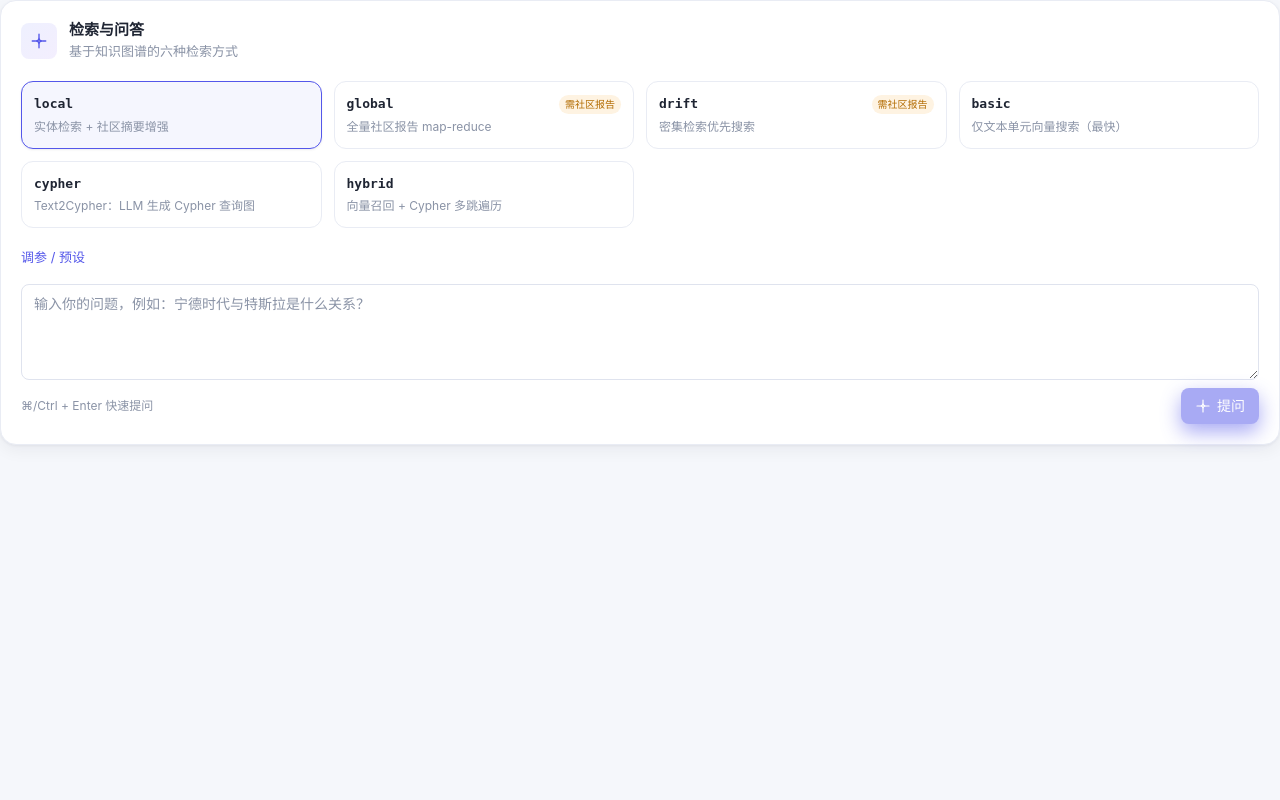
Test: tuning panel is collapsed by default and opens on click
The width and height of the screenshot is (1280, 800).
Expected: the field labelled "community_level" is not shown
Click the button "调参 / 预设" at (53, 258), box [21,248,85,268]
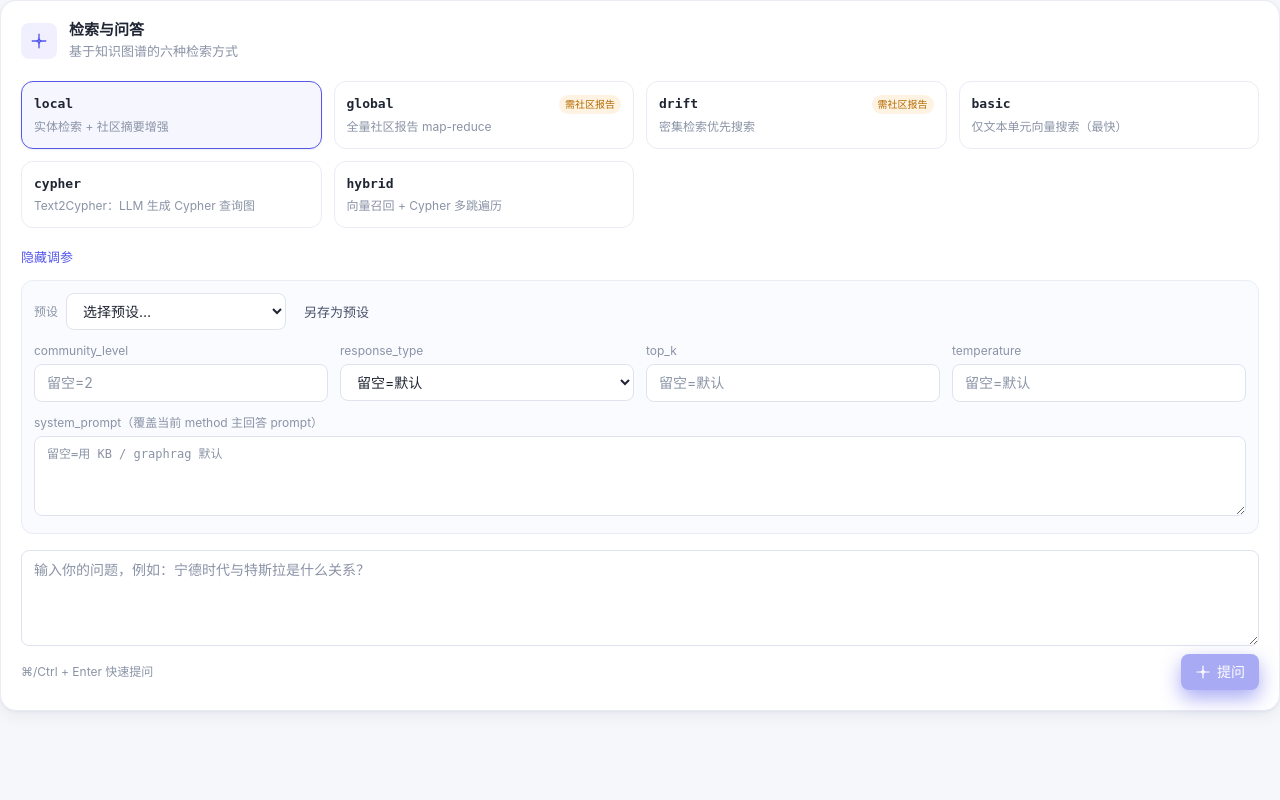
Expected: the number field labelled "community_level" is shown, [34,364,328,402]
